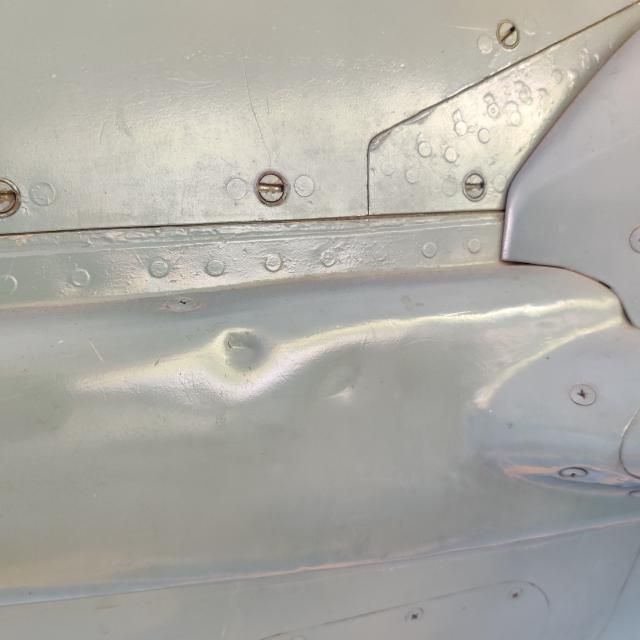Dent: (194, 307, 288, 388), (307, 363, 373, 418)
